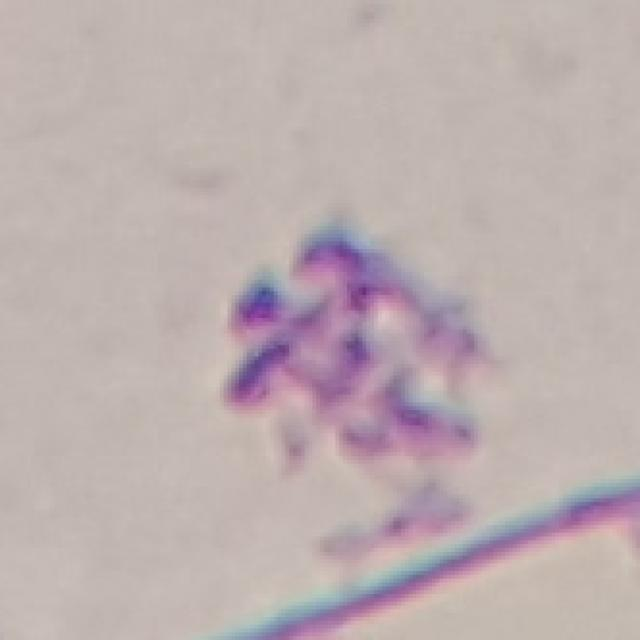non-sperm: (219, 230, 480, 542)
